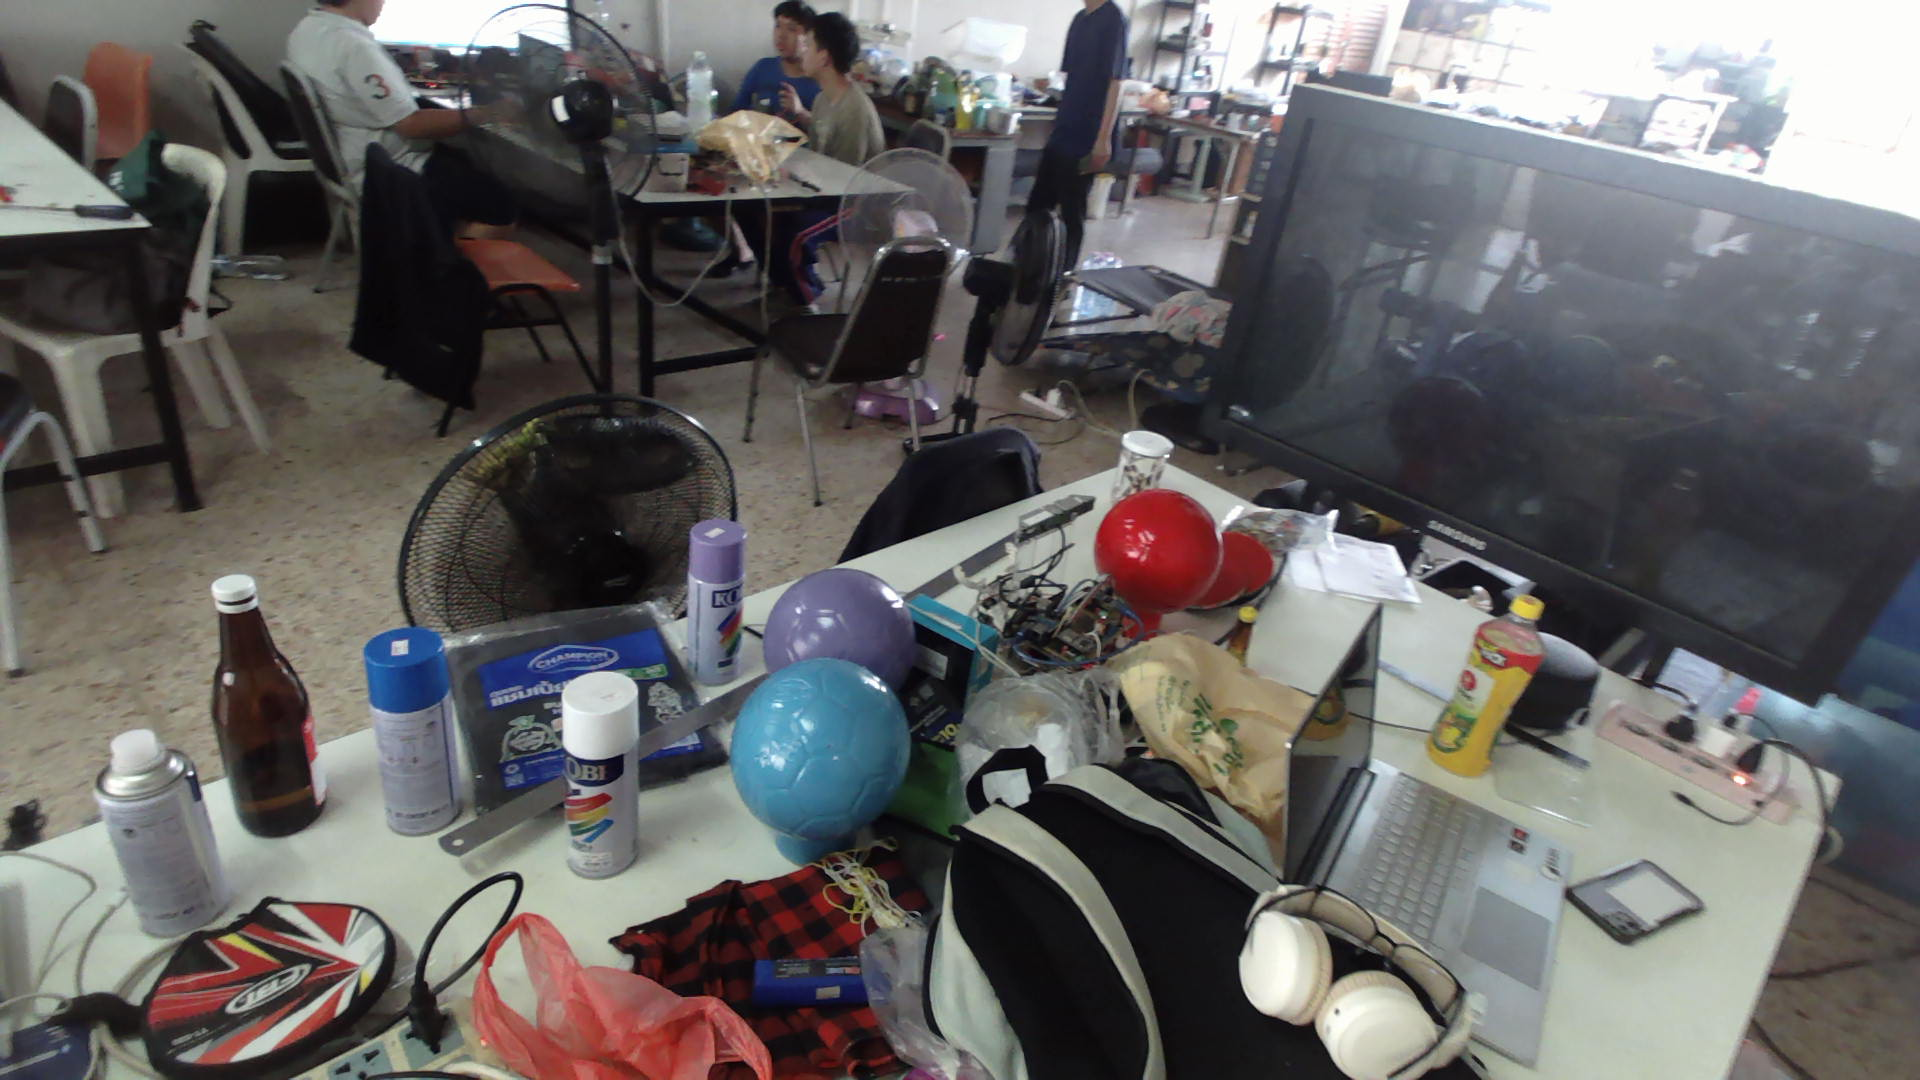Blue ball: (728, 654, 915, 843)
Purple ball: (760, 566, 919, 695)
Red ball: (1091, 487, 1224, 616)
